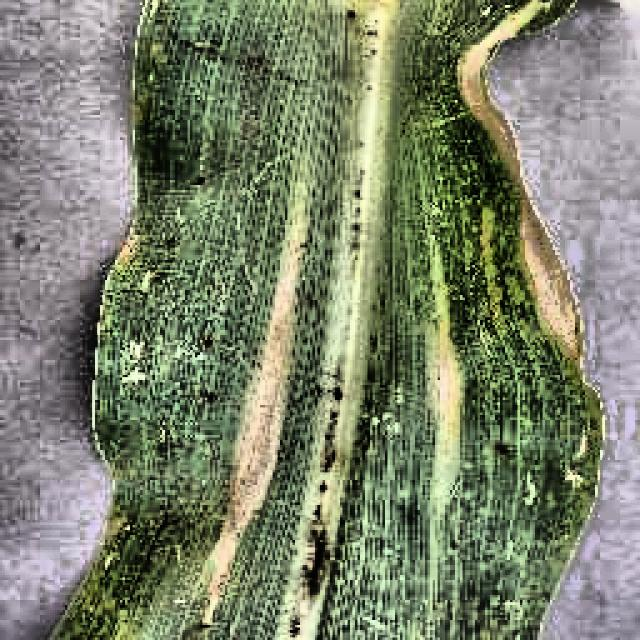blight: (143, 5, 575, 640)
